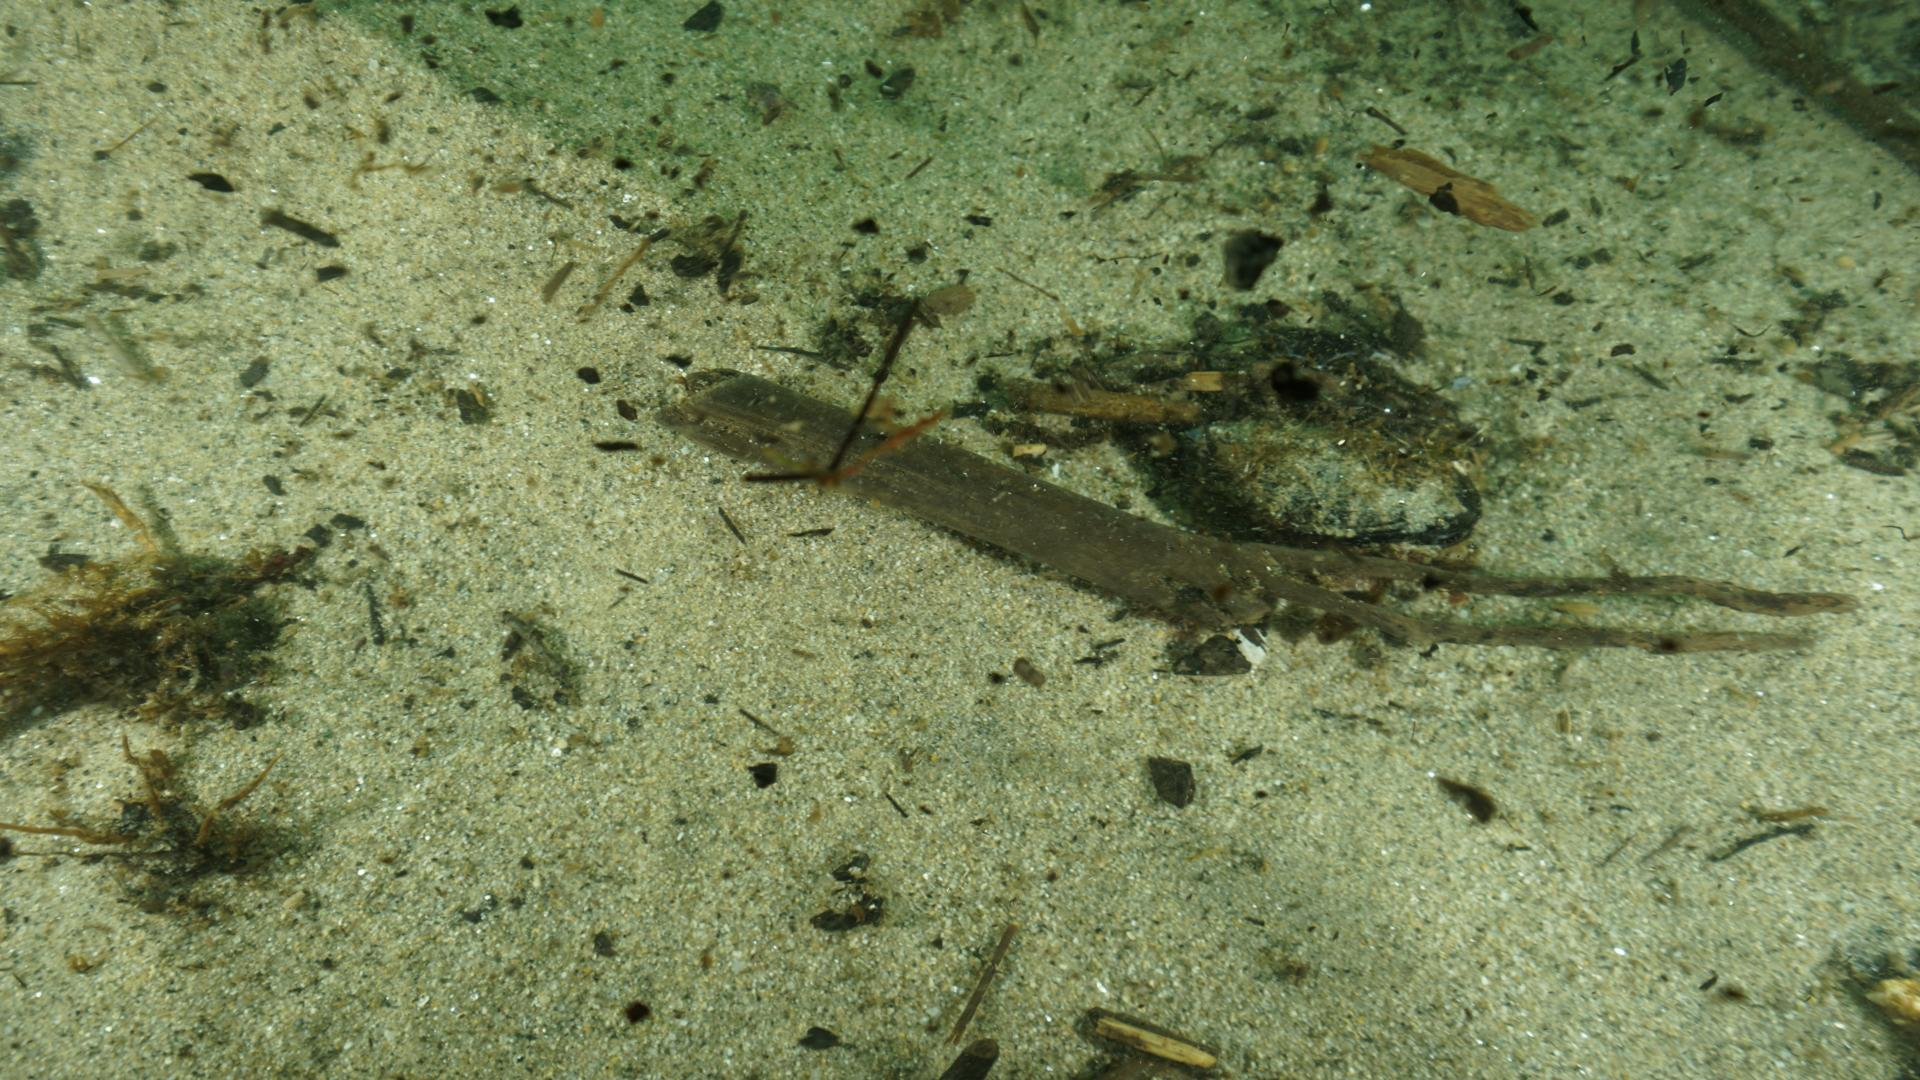wood: (665, 365, 1859, 655)
